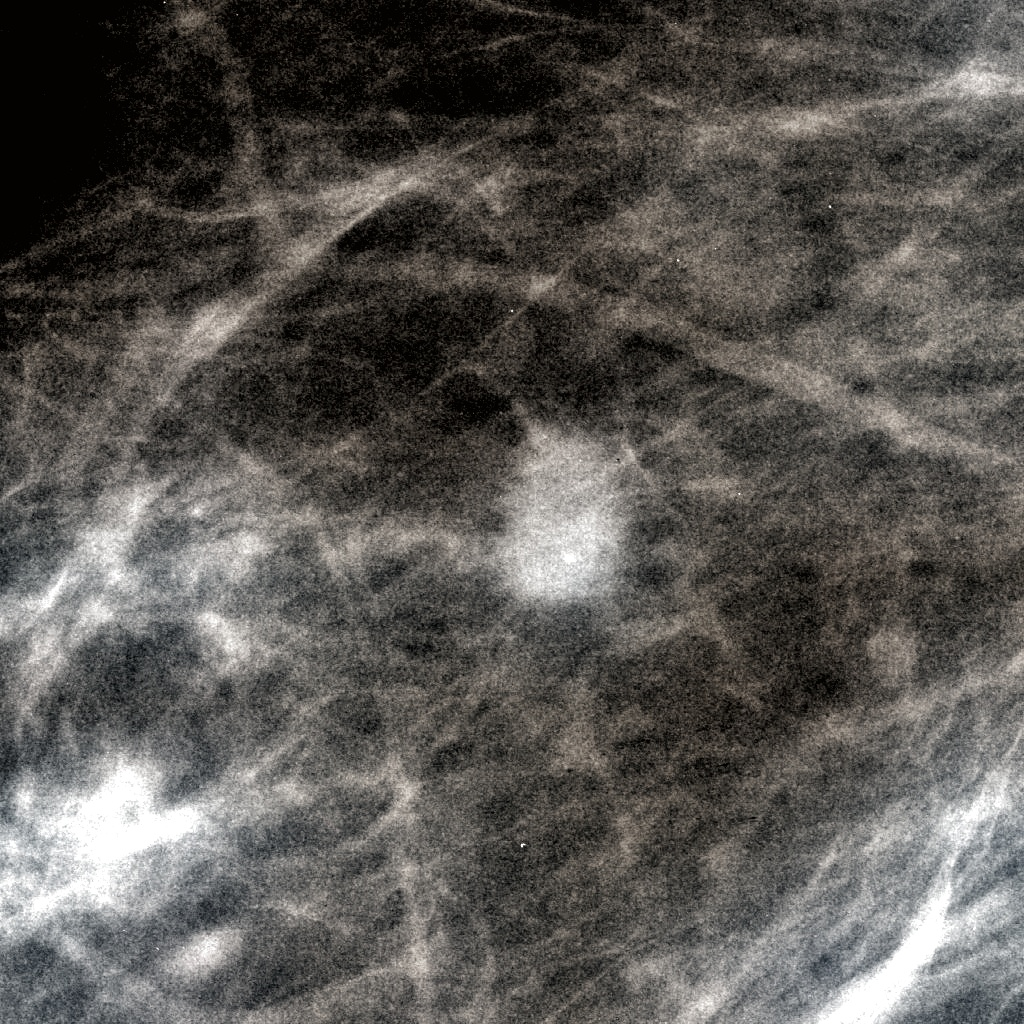tumor: (367, 398, 657, 626)
